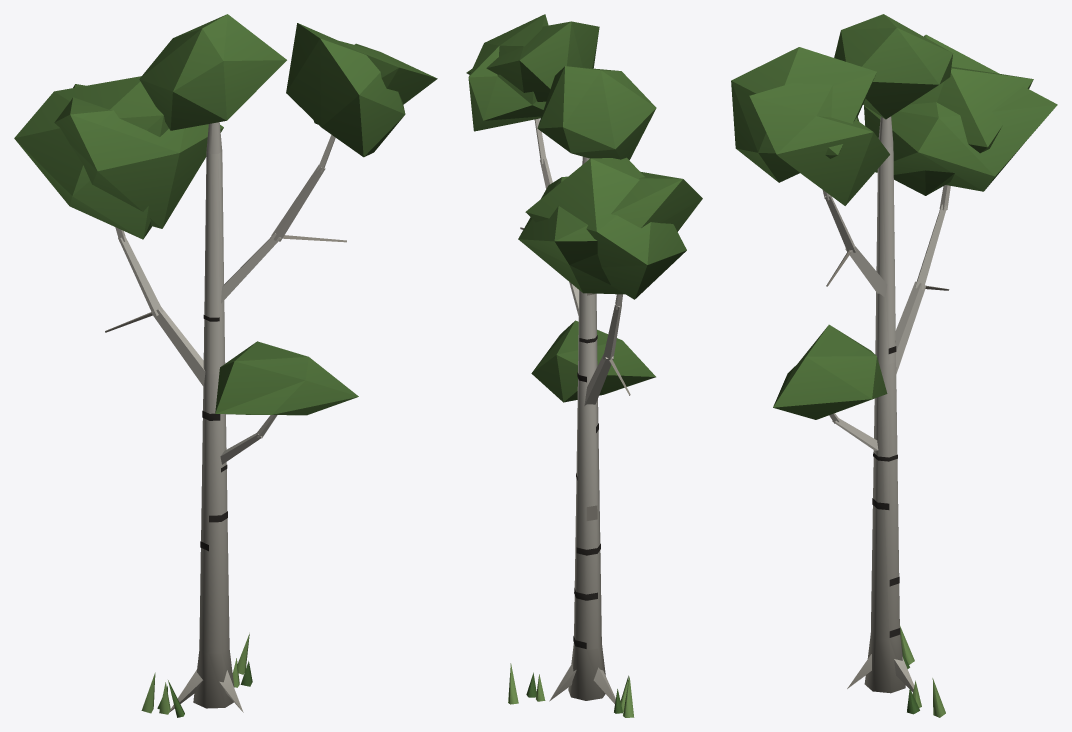
File: birch-tree.glb
3 views of the same model, side by side, from view 1: azimuth 30°, elevation 25°; view 2: azimuth 150°, elevation 25°; view 3: azimuth 270°, elevation 25° (orthographic). The views are drawn at different scales.
Parts seen in each view (by area): view 1: birch_tree; view 2: birch_tree; view 3: birch_tree.
Part boxes in pixels (x1,y1,x2,y2): birch_tree: [14, 14, 437, 717]; birch_tree: [466, 14, 702, 717]; birch_tree: [731, 14, 1057, 717].
Size of the model in its own units: 2.28 by 4.97 by 2.18.
